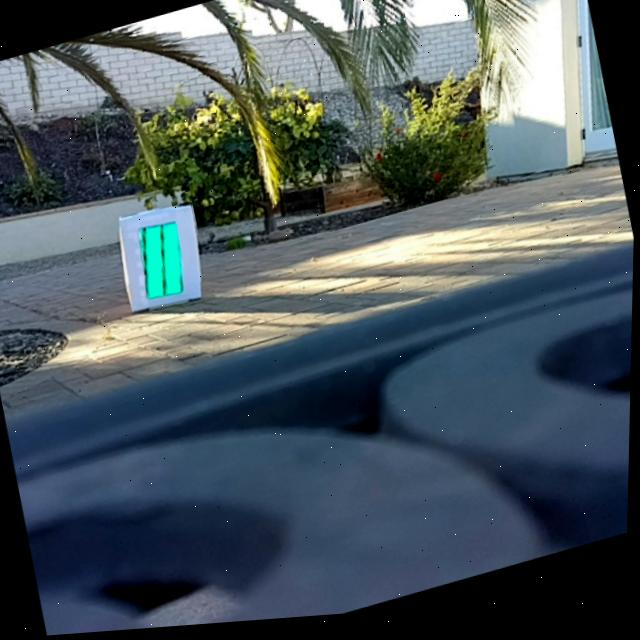led: (134, 222, 190, 305)
